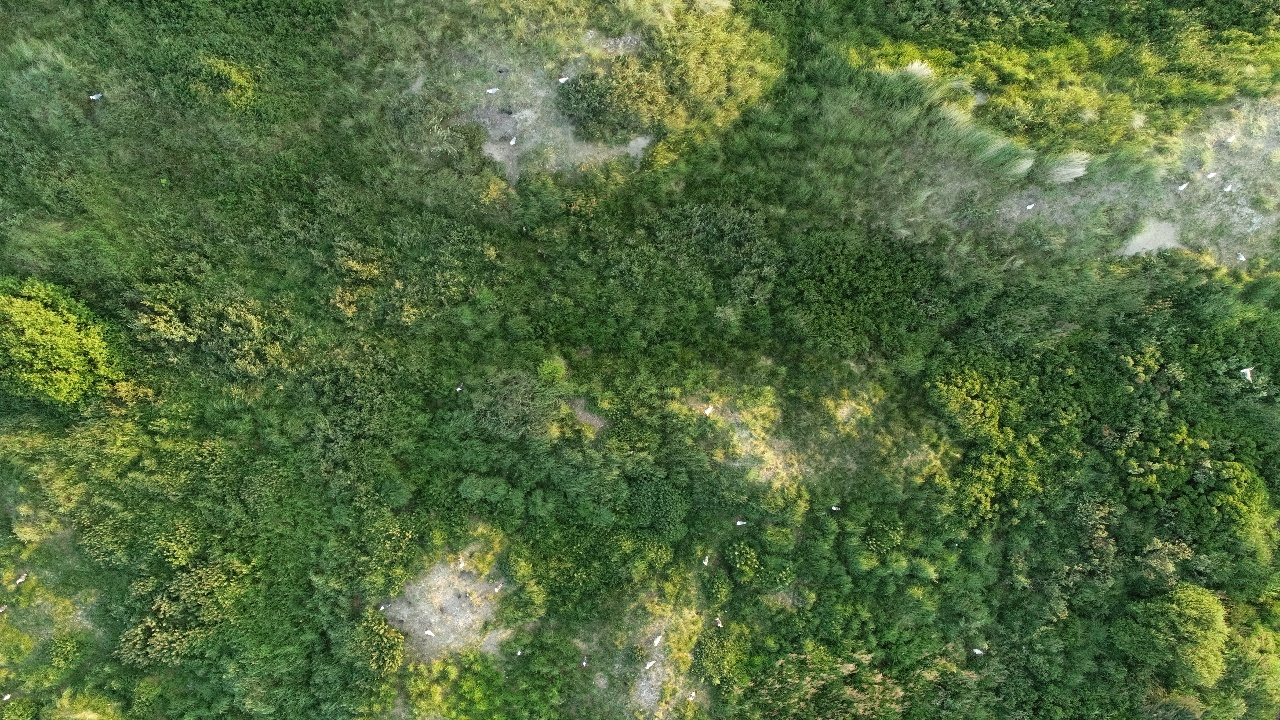Bird: (79, 83, 111, 110), (477, 76, 509, 103), (549, 65, 581, 92), (499, 126, 531, 153), (446, 373, 478, 400), (695, 398, 727, 425), (821, 497, 853, 524), (726, 509, 758, 536), (691, 545, 723, 572), (481, 573, 513, 600), (414, 619, 446, 646), (369, 593, 401, 620), (572, 648, 604, 675), (645, 626, 677, 653), (704, 609, 736, 636), (675, 683, 707, 710), (633, 651, 665, 678), (5, 566, 37, 593), (963, 638, 995, 665), (1239, 360, 1271, 387), (1226, 244, 1258, 271), (1014, 194, 1046, 221), (1166, 174, 1198, 201), (1197, 158, 1229, 185), (1213, 176, 1245, 203), (1216, 124, 1248, 151)
